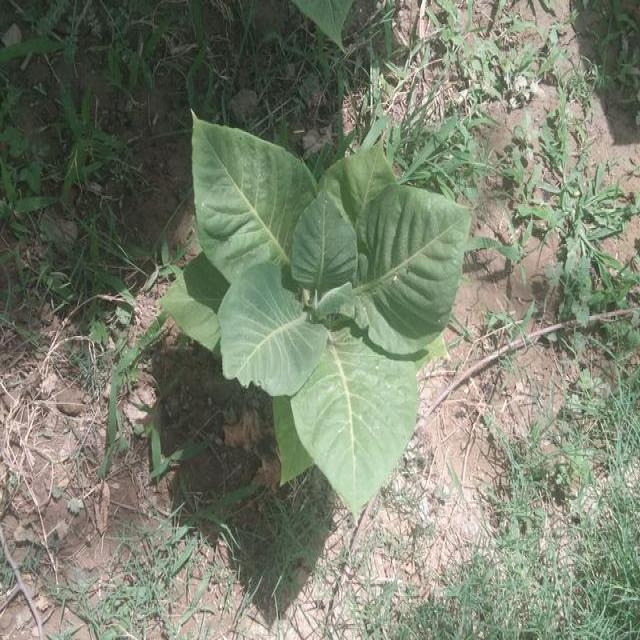crop: (157, 96, 470, 509)
